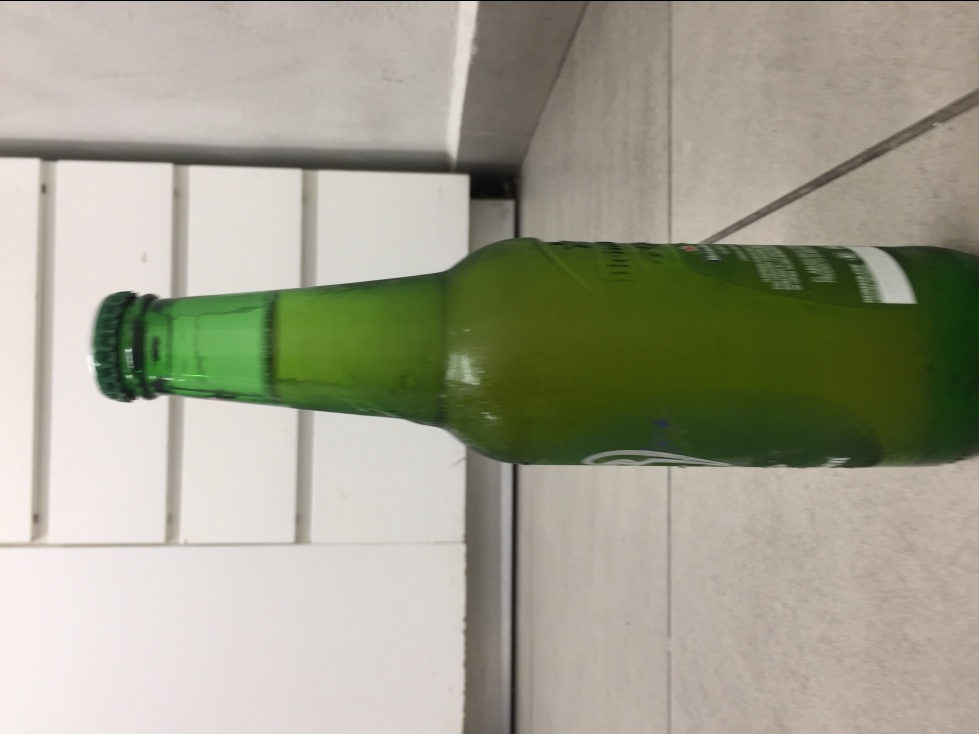heineken: (84, 234, 979, 470)
